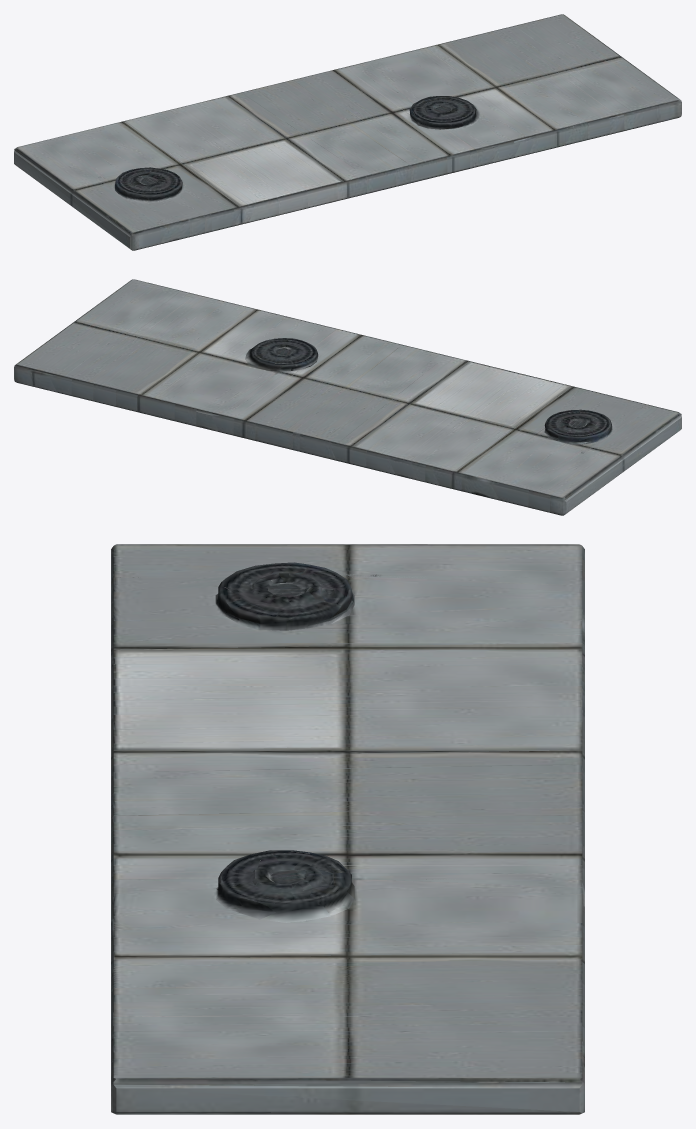
File: sidewalk.glb
The picture shows the model from 3 angles, top to bottom: view 1: azimuth 30°, elevation 25°; view 2: azimuth 150°, elevation 25°; view 3: azimuth 270°, elevation 25°; orthographic projection. The views are drawn at different scales.
Bounding box in the file's own units: 1.91 × 0.0822 × 0.7084.
Materials: 1 (1 with a texture image).
